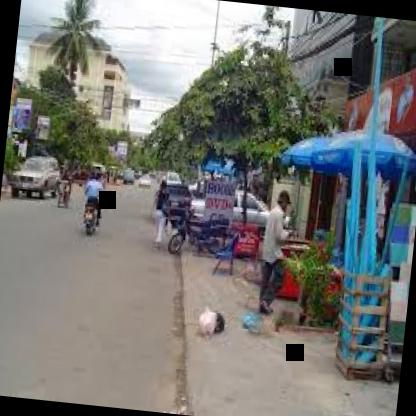car: (18, 149, 74, 216), (78, 161, 118, 245), (156, 168, 198, 230), (134, 168, 154, 194)
